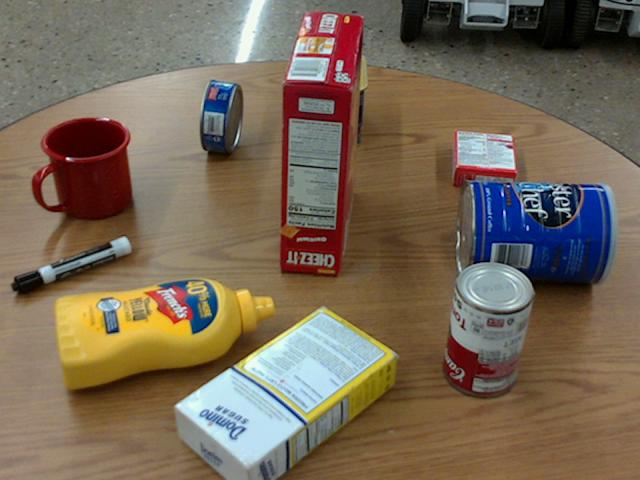cracker_box: (281, 10, 365, 272)
gelatin_box: (452, 129, 517, 189)
large_marker: (12, 235, 130, 293)
master_chef_can: (456, 178, 618, 282)
mug: (36, 117, 131, 219)
mustard_bottle: (54, 276, 273, 389)
potted_meat_can: (319, 51, 367, 147)
sugar_box: (171, 306, 396, 479)
tomato_soup_can: (444, 259, 534, 394)
tuna_fish_can: (198, 79, 243, 152)
